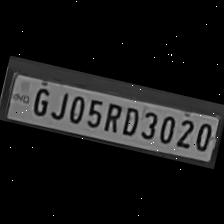0: (190, 118, 216, 152), (64, 90, 89, 124), (154, 110, 178, 143)
2: (172, 114, 197, 148)
3: (136, 105, 160, 140)
5: (82, 94, 106, 128)
D: (117, 102, 143, 136)
G: (27, 81, 53, 116)
J: (48, 86, 72, 120)
R: (99, 98, 123, 134)
